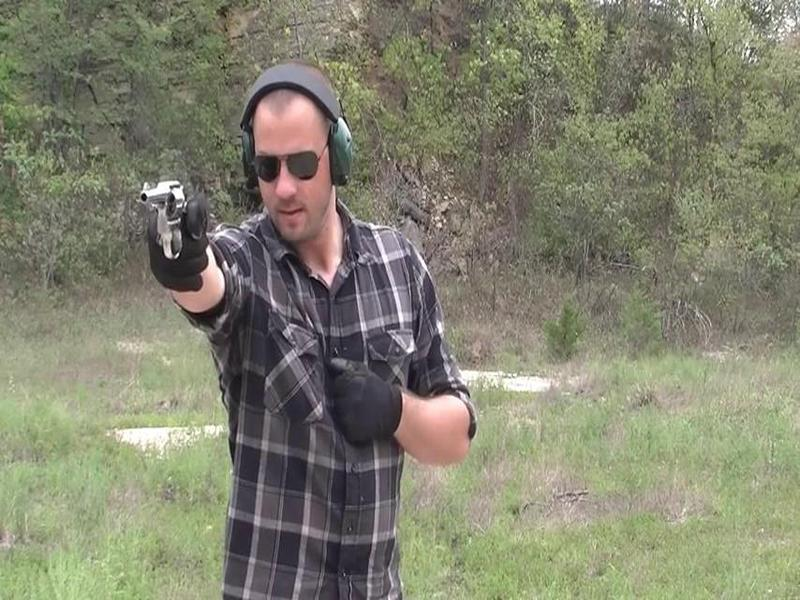Revolver: (130, 171, 190, 268)
